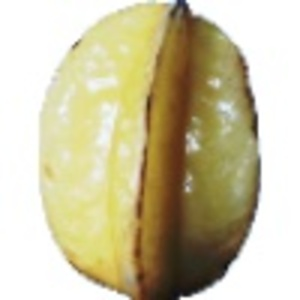carambola: (38, 1, 262, 300)
